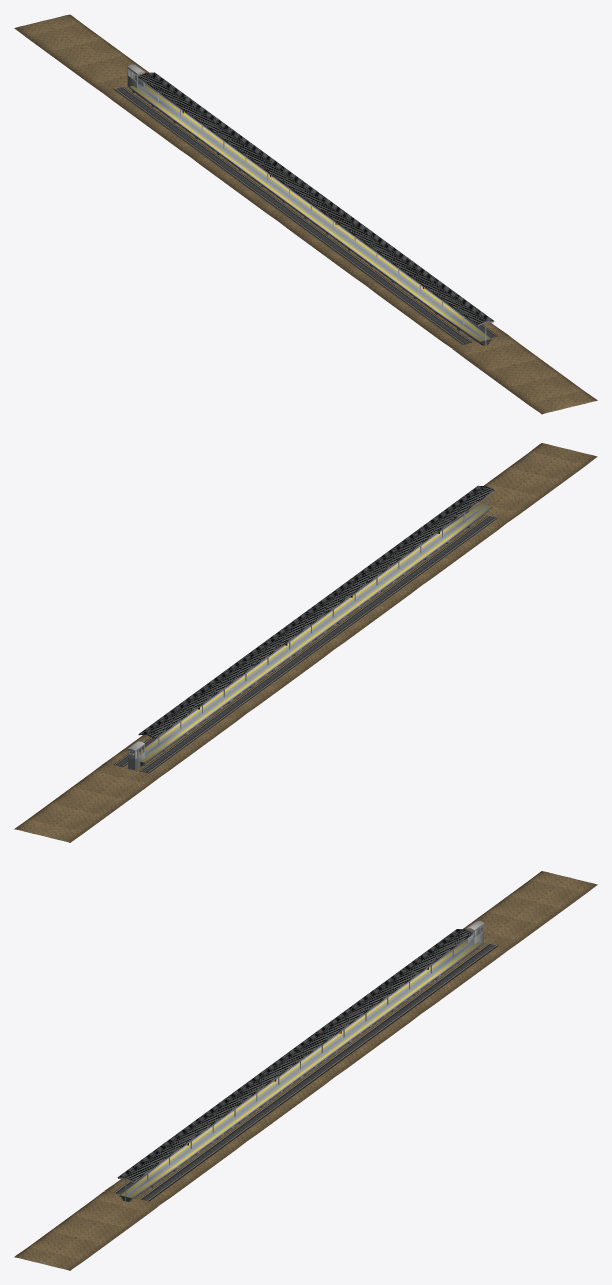
Rendered from NAKATSU_KOUBE.glb.
The picture shows the model from 3 angles, top to bottom: view 1: azimuth 30°, elevation 25°; view 2: azimuth 150°, elevation 25°; view 3: azimuth 330°, elevation 25°; orthographic projection.
Parts seen in each view (by area): view 1: home; view 2: home; view 3: home.
Part boxes in pixels (x1,y1,x2,y2): home: (14, 14, 597, 414); home: (14, 443, 597, 842); home: (14, 871, 597, 1270).
Size of the model in its own units: 37.25 by 16.23 by 605.
Materials: 11 (10 with a texture image).
